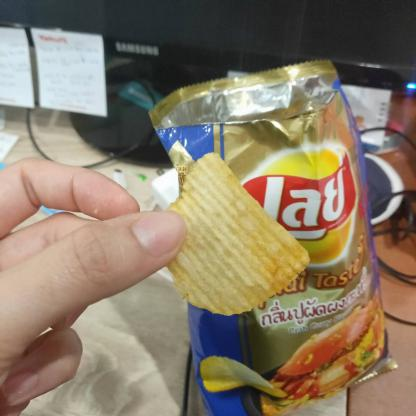potatochip: (148, 53, 402, 416)
